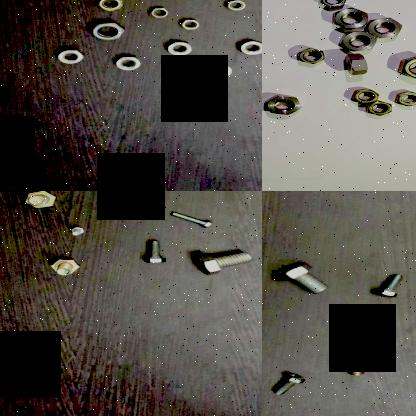Bolts: (328, 336, 378, 380), (272, 261, 332, 297), (187, 247, 252, 277), (370, 266, 407, 302), (262, 371, 309, 397), (39, 256, 85, 280), (164, 210, 214, 228), (17, 191, 61, 210), (138, 235, 166, 264), (64, 227, 90, 238), (129, 191, 167, 196)
NUTS: (327, 6, 370, 29), (363, 16, 405, 38), (262, 93, 300, 117), (87, 20, 126, 42), (338, 30, 376, 52), (342, 51, 372, 78), (111, 52, 143, 74), (54, 46, 88, 66), (363, 99, 395, 119), (158, 41, 196, 57), (201, 62, 233, 80), (349, 86, 381, 104), (394, 55, 416, 81), (391, 89, 416, 109), (293, 48, 325, 63), (91, 0, 125, 14), (234, 39, 262, 55), (146, 5, 170, 22), (314, 0, 346, 11), (178, 18, 202, 31), (223, 0, 246, 13)
